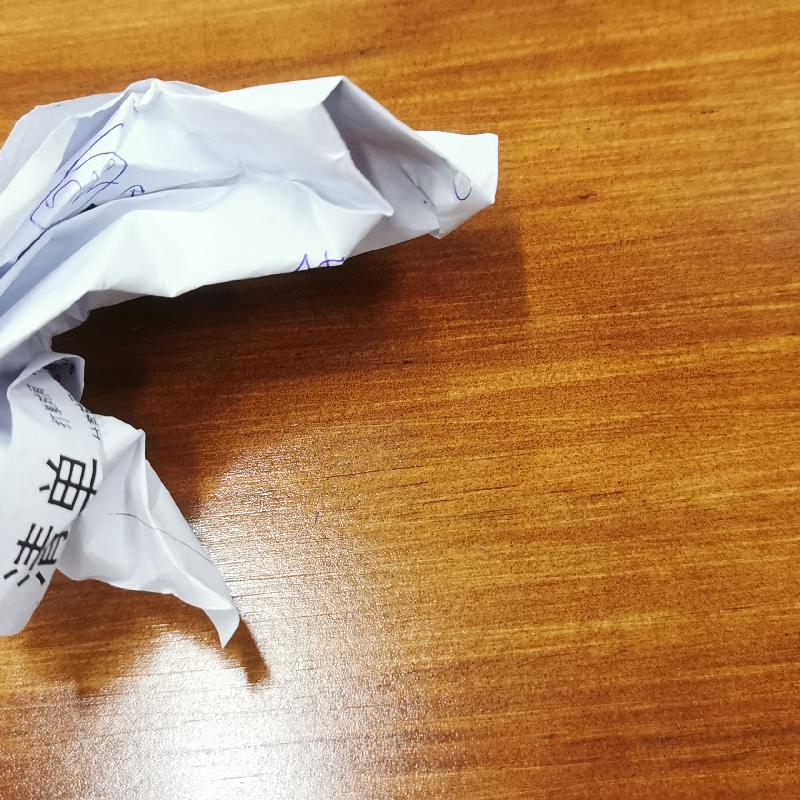spitball: (1, 76, 504, 667)
